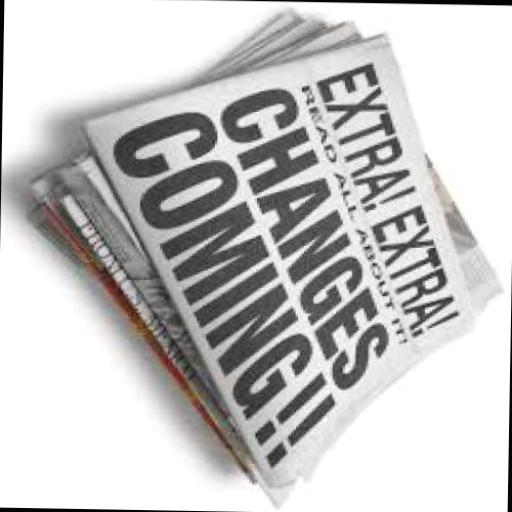paper: (64, 15, 510, 508), (77, 26, 488, 488), (26, 8, 328, 506), (26, 3, 304, 271)
